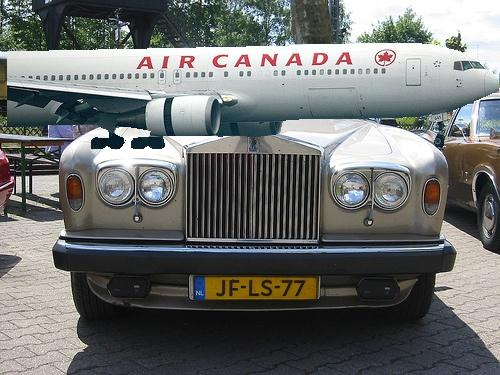tampered: (8, 41, 499, 149)
